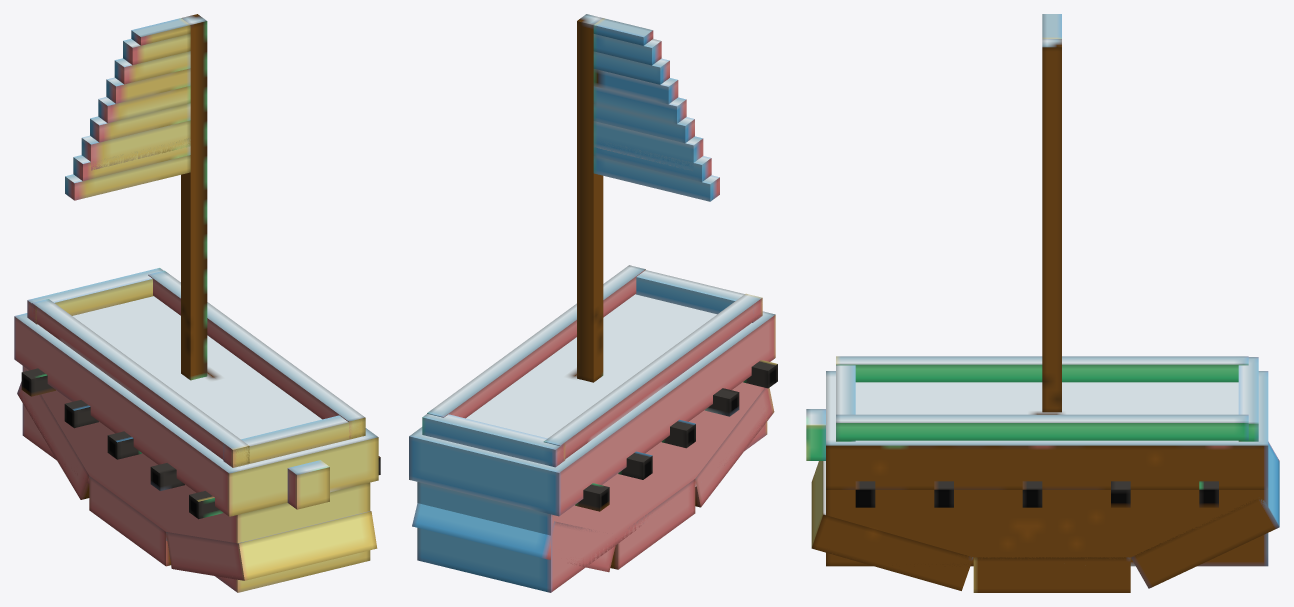
File: Uncolored_low_poly_pirate_ship.glb
The picture shows the model from 3 angles, left to right: view 1: azimuth 30°, elevation 25°; view 2: azimuth 150°, elevation 25°; view 3: azimuth 270°, elevation 25°; orthographic projection. The views are drawn at different scales.
Parts seen in each view (by area): view 1: unnamed; view 2: unnamed; view 3: unnamed.
Boxes of the visible parts, <box> form: unnamed: <box>14,14,380,592</box>; unnamed: <box>409,14,777,592</box>; unnamed: <box>806,14,1279,592</box>.
Size of the model in its own units: 1.63 by 3.62 by 3.01.
Materials: 1 (1 with a texture image).
